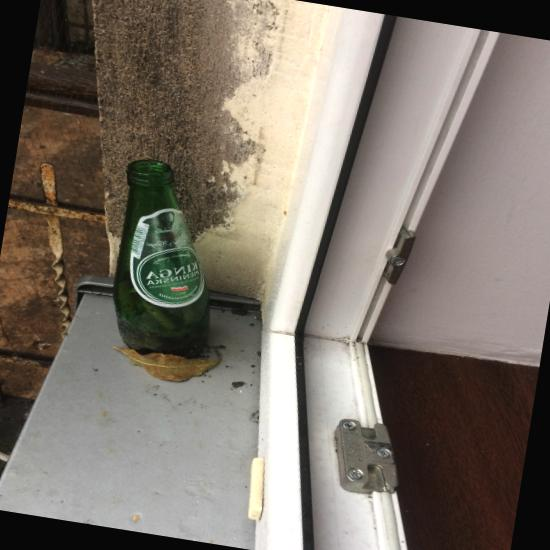Glass bottle: (112, 159, 209, 357)
